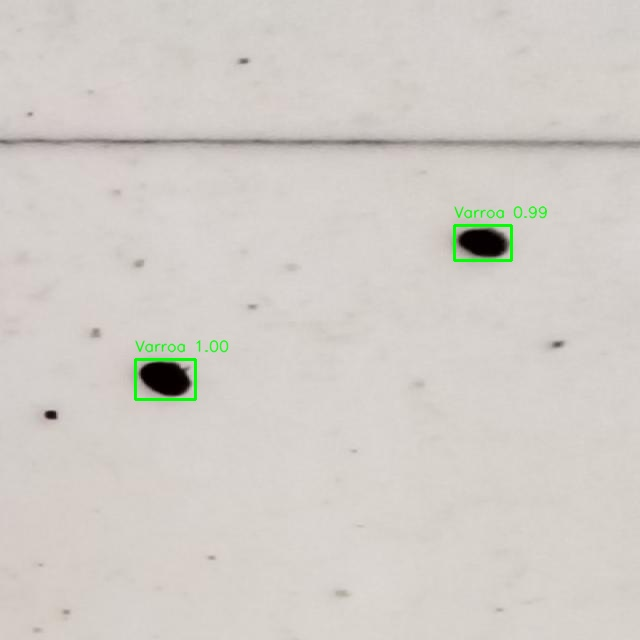varroa: (141, 360, 192, 400), (455, 227, 511, 261)
